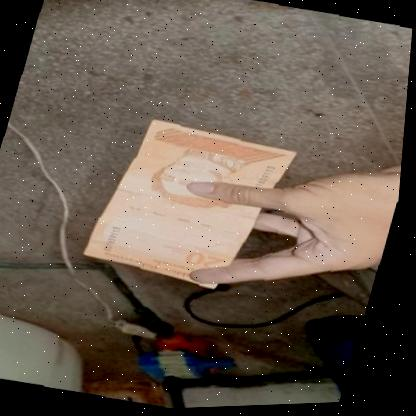vef_front: (80, 108, 304, 303)
